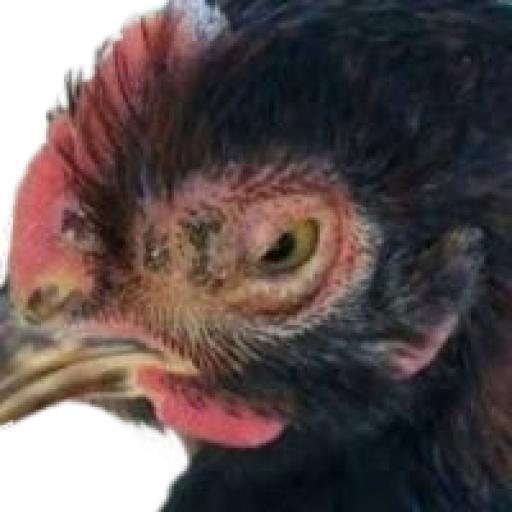disease: (125, 162, 362, 342), (0, 241, 94, 343), (40, 159, 116, 256)
